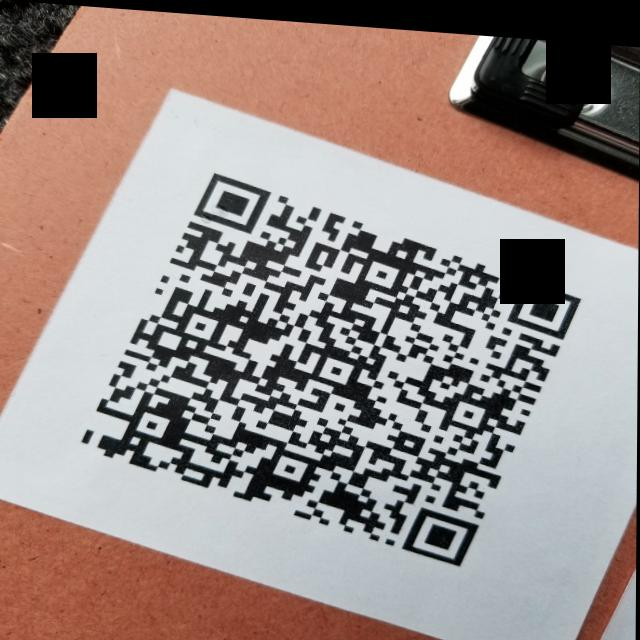QR_CODE: (71, 143, 598, 588)
